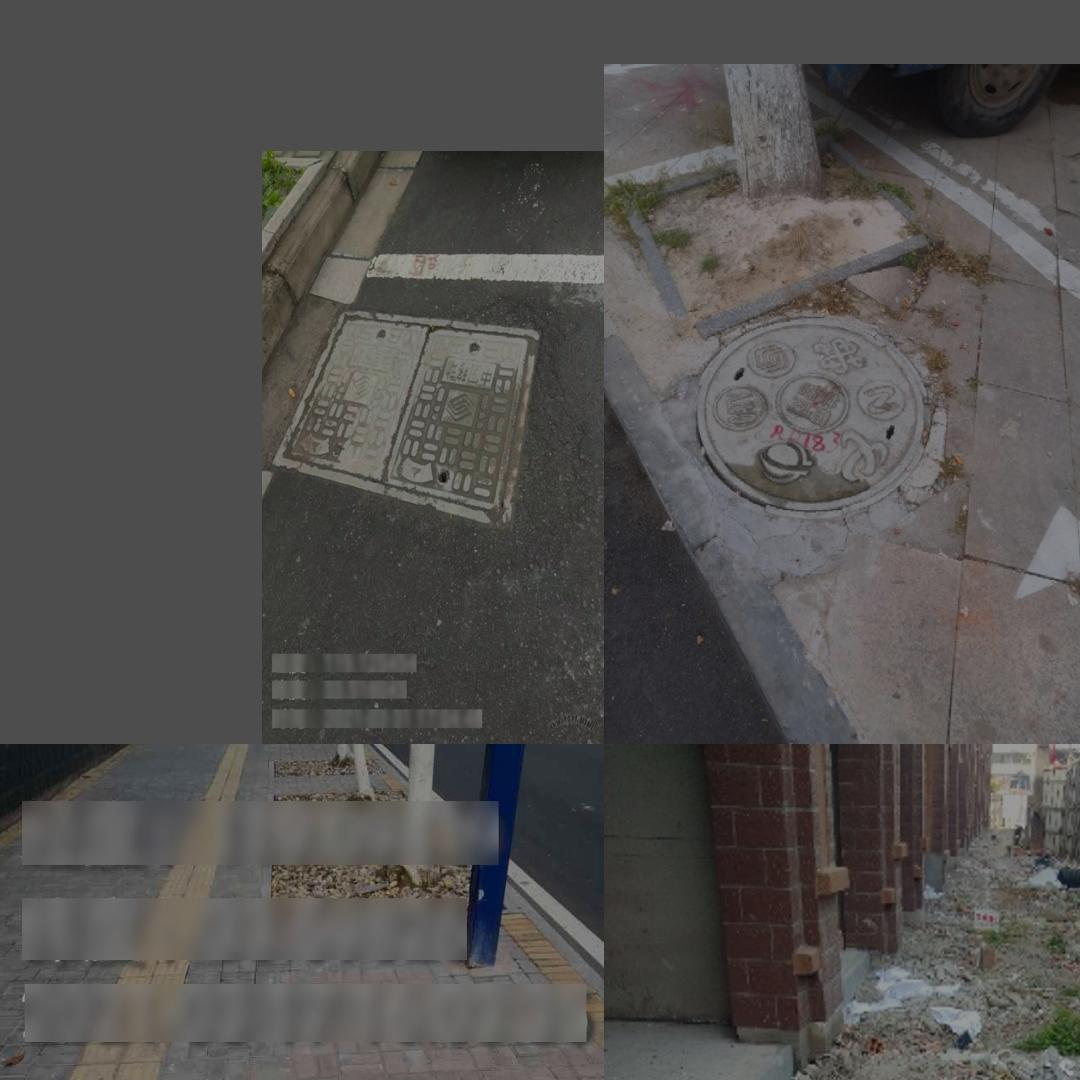good: (269, 311, 538, 526), (697, 320, 933, 515)
